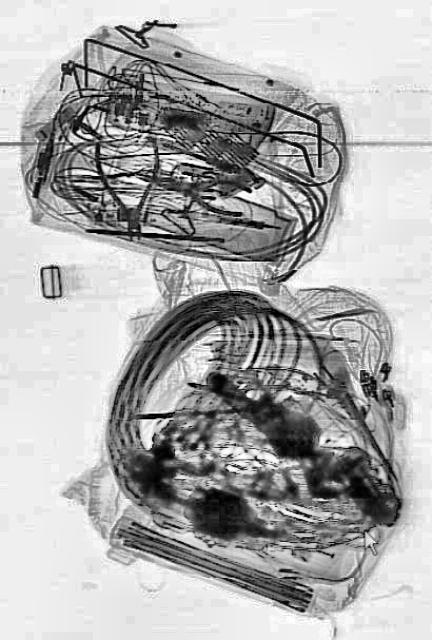Pliers: (90, 127, 168, 249), (134, 157, 252, 221)
